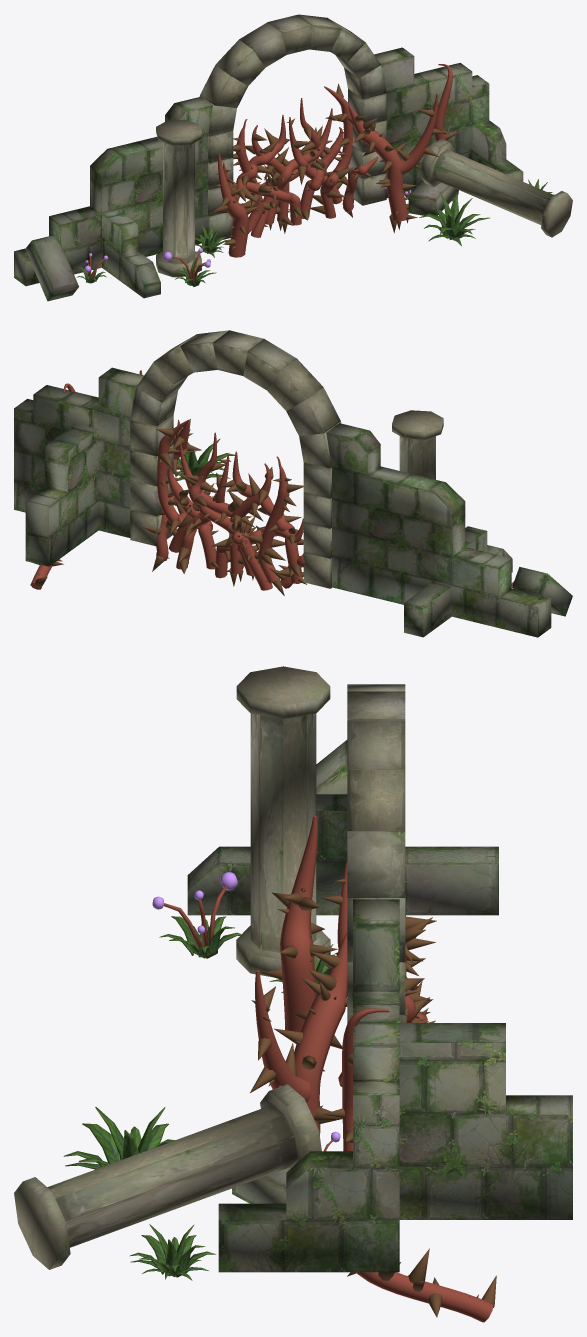
The model's file is Gate_Thorns-optimized.glb.
3 views of the same model, one above another, from view 1: azimuth 30°, elevation 25°; view 2: azimuth 150°, elevation 25°; view 3: azimuth 270°, elevation 25° (orthographic). The views are drawn at different scales.
Visible parts, largest first — view 1: Wall_left, Gatestone, GATE, Wall_right, Pillar_01, Pillar_02, Vine_Thorns, Brick_loose_01, Plant_04, Brick_loose_02, Vine_Thorns.001, Plant_01 (+1 smaller); view 2: Wall_left, Wall_right, Gatestone, GATE, Pillar_02, Brick_loose_01, Plant_04, Vine_Thorns, Vine_Thorns.001; view 3: Wall_right, Pillar_01, Pillar_02, Gatestone, Wall_left, Vine_Thorns, Vine_Thorns.001, GATE, Plant_04, Plant_01, Plant_06, Brick_loose_01 (+1 smaller).
Boxes of the visible parts, left/top/right/bottom form: Wall_left: left=14, top=96, right=212, bottom=298; Gatestone: left=199, top=14, right=386, bottom=241; GATE: left=223, top=83, right=378, bottom=237; Wall_right: left=374, top=47, right=523, bottom=197; Pillar_01: left=420, top=139, right=572, bottom=237; Pillar_02: left=156, top=119, right=201, bottom=277; Vine_Thorns: left=210, top=94, right=445, bottom=257; Brick_loose_01: left=25, top=234, right=78, bottom=301; Plant_04: left=419, top=193, right=489, bottom=246; Brick_loose_02: left=408, top=181, right=458, bottom=216; Vine_Thorns.001: left=404, top=64, right=458, bottom=201; Plant_01: left=163, top=248, right=216, bottom=286; Wall_left: left=326, top=423, right=551, bottom=637; Wall_right: left=14, top=367, right=143, bottom=566; Gatestone: left=130, top=330, right=341, bottom=588; GATE: left=142, top=419, right=306, bottom=595; Pillar_02: left=392, top=410, right=443, bottom=479; Brick_loose_01: left=512, top=567, right=572, bottom=616; Plant_04: left=173, top=439, right=234, bottom=479; Vine_Thorns: left=139, top=370, right=201, bottom=477; Vine_Thorns.001: left=30, top=383, right=75, bottom=589; Wall_right: left=218, top=899, right=572, bottom=1272; Pillar_01: left=14, top=1084, right=321, bottom=1269; Pillar_02: left=236, top=666, right=330, bottom=977; Gatestone: left=347, top=684, right=405, bottom=1023; Wall_left: left=187, top=794, right=498, bottom=915; Vine_Thorns: left=250, top=816, right=347, bottom=1135; Vine_Thorns.001: left=323, top=1008, right=496, bottom=1322; GATE: left=320, top=862, right=436, bottom=1086; Plant_04: left=63, top=1107, right=174, bottom=1169; Plant_01: left=152, top=872, right=241, bottom=958; Plant_06: left=130, top=1224, right=215, bottom=1280; Brick_loose_01: left=316, top=740, right=347, bottom=794.
Bounding box in the file's own units: 90.31 × 42.55 × 45.9.
6 materials, 3 textured.
